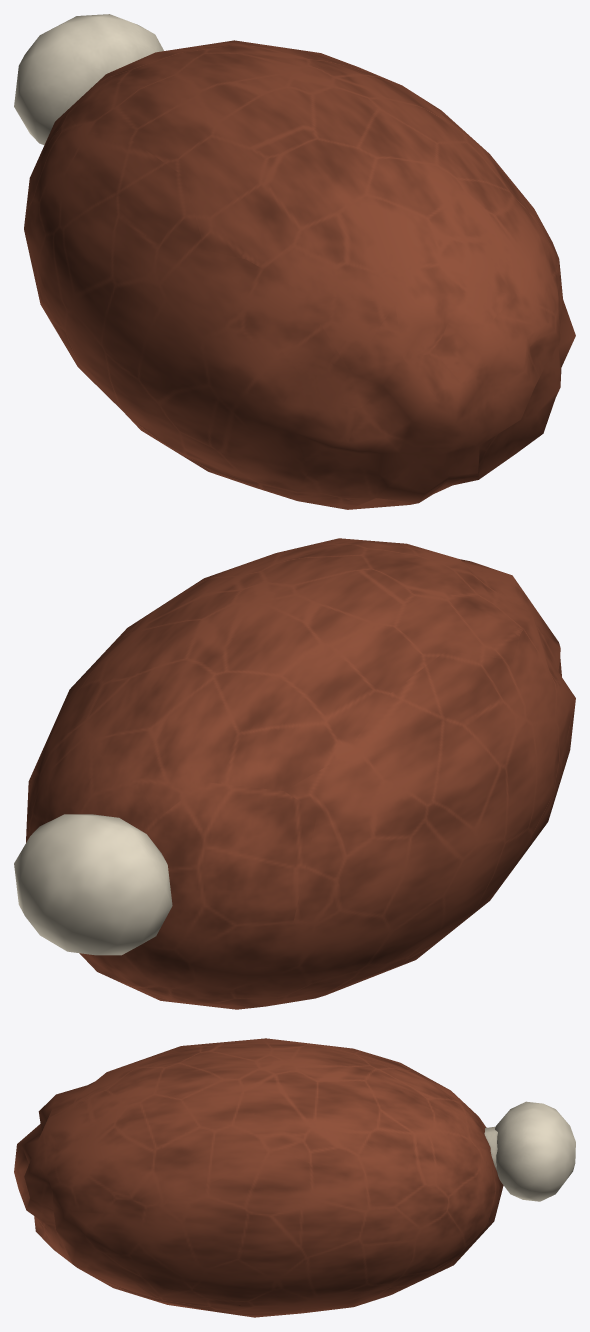
The model's file is creature_meat_chunk.glb.
3 views of the same model, one above another, from view 1: azimuth 30°, elevation 25°; view 2: azimuth 150°, elevation 25°; view 3: azimuth 270°, elevation 25° (orthographic). The views are drawn at different scales.
Parts seen in each view (by area): view 1: MeatChunk; view 2: MeatChunk; view 3: MeatChunk.
Boxes of the visible parts, x1,y1,x2,y2 form: MeatChunk: (14, 14, 575, 509); MeatChunk: (14, 538, 575, 1009); MeatChunk: (14, 1038, 575, 1317).
Bounding box in the file's own units: 0.3207 × 0.2702 × 0.5832.
2 materials, 2 textured.
